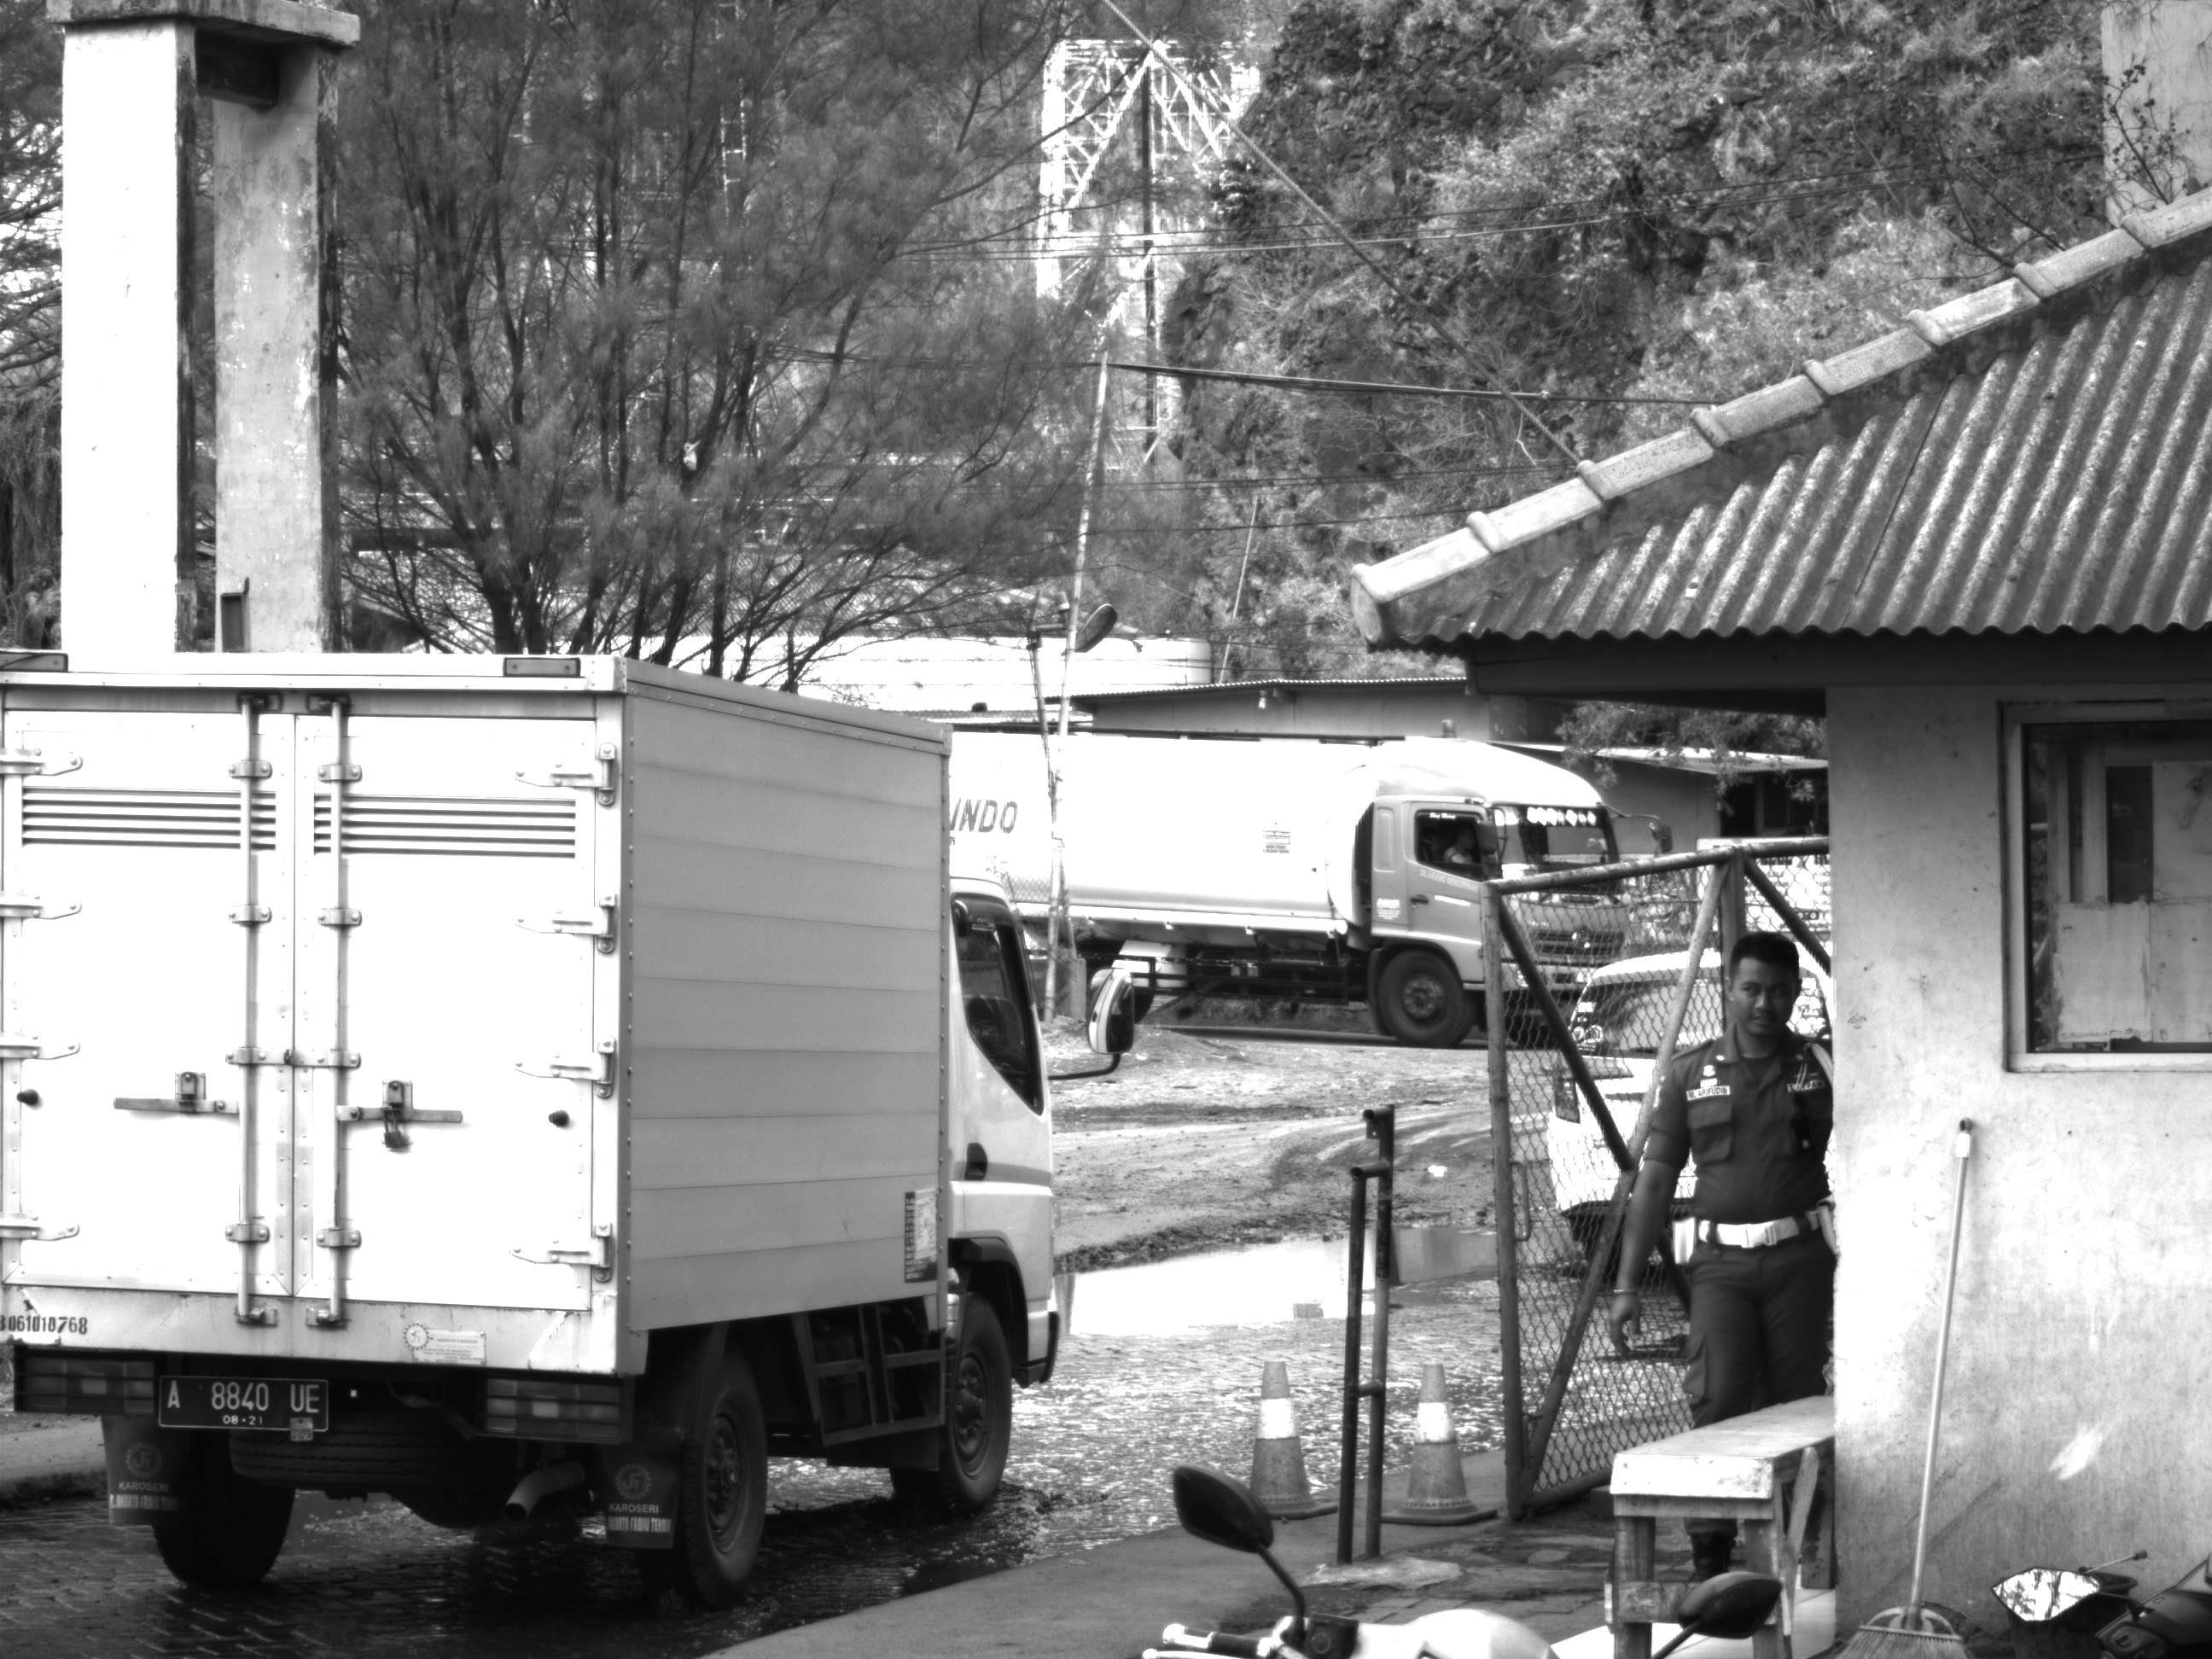day_truck_rear: (3, 653, 759, 1597)
plate: (155, 1374, 335, 1431)
